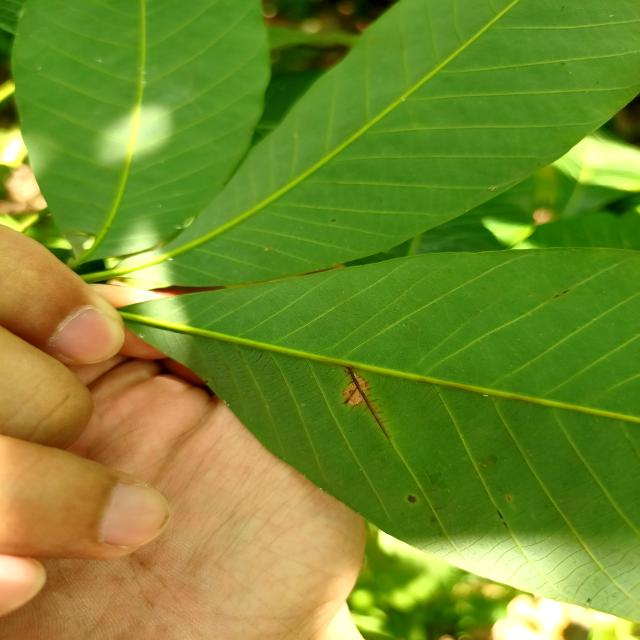Colletotrichum: (408, 495, 416, 503)
Corynespora: (343, 367, 389, 438)
